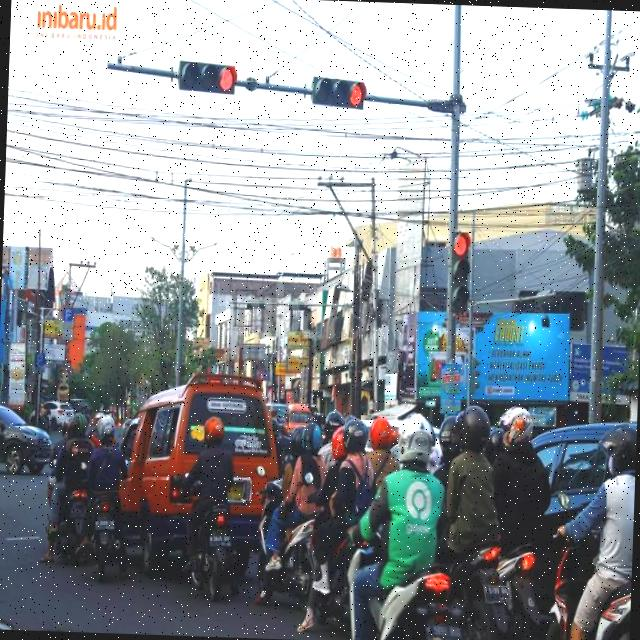Czerwone swiatlo: (312, 70, 364, 111), (446, 228, 470, 314), (176, 58, 237, 89)
